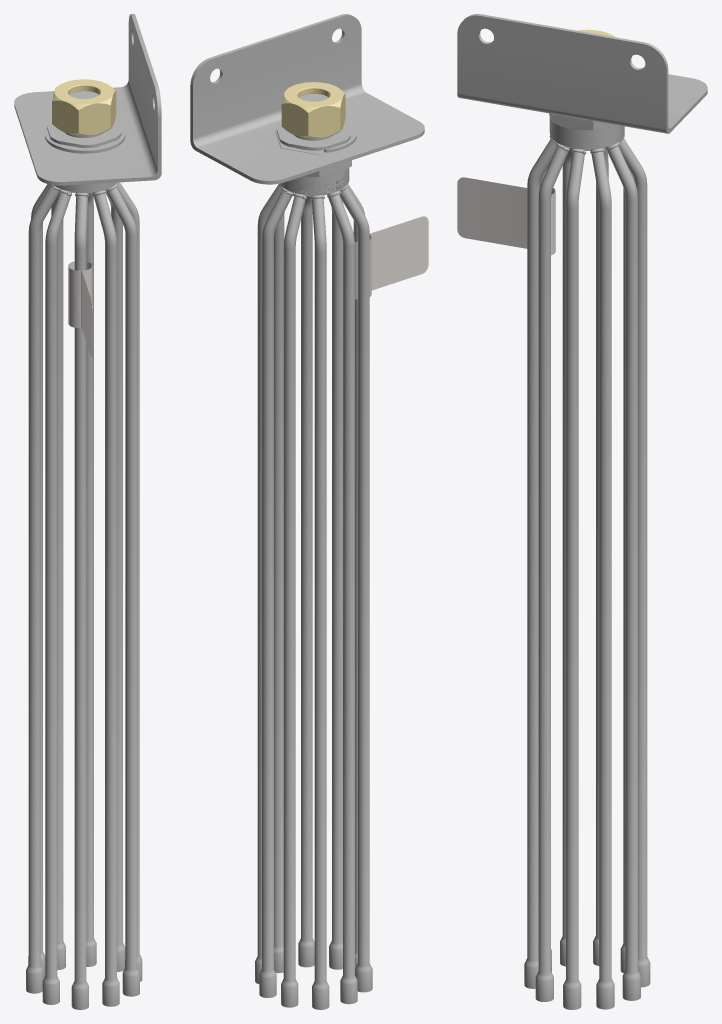
File: Distribuidor.glb
The picture shows the model from 3 angles, left to right: view 1: azimuth 30°, elevation 25°; view 2: azimuth 150°, elevation 25°; view 3: azimuth 270°, elevation 25°; orthographic projection. The views are drawn at different scales.
Parts seen in each view (by area): view 1: Distribuidor (1), Distribuidor (1).001; view 2: Distribuidor (1), Distribuidor (1).001; view 3: Distribuidor (1), Distribuidor (1).001.
Part boxes in pixels (bbox=[...]): Distribuidor (1): bbox=[14, 14, 161, 1009]; Distribuidor (1).001: bbox=[68, 261, 92, 357]; Distribuidor (1): bbox=[190, 14, 424, 1009]; Distribuidor (1).001: bbox=[354, 216, 428, 299]; Distribuidor (1): bbox=[457, 14, 707, 1009]; Distribuidor (1).001: bbox=[457, 177, 555, 255].
Bounding box in the file's own units: 0.0309 × 0.1695 × 0.0393.
